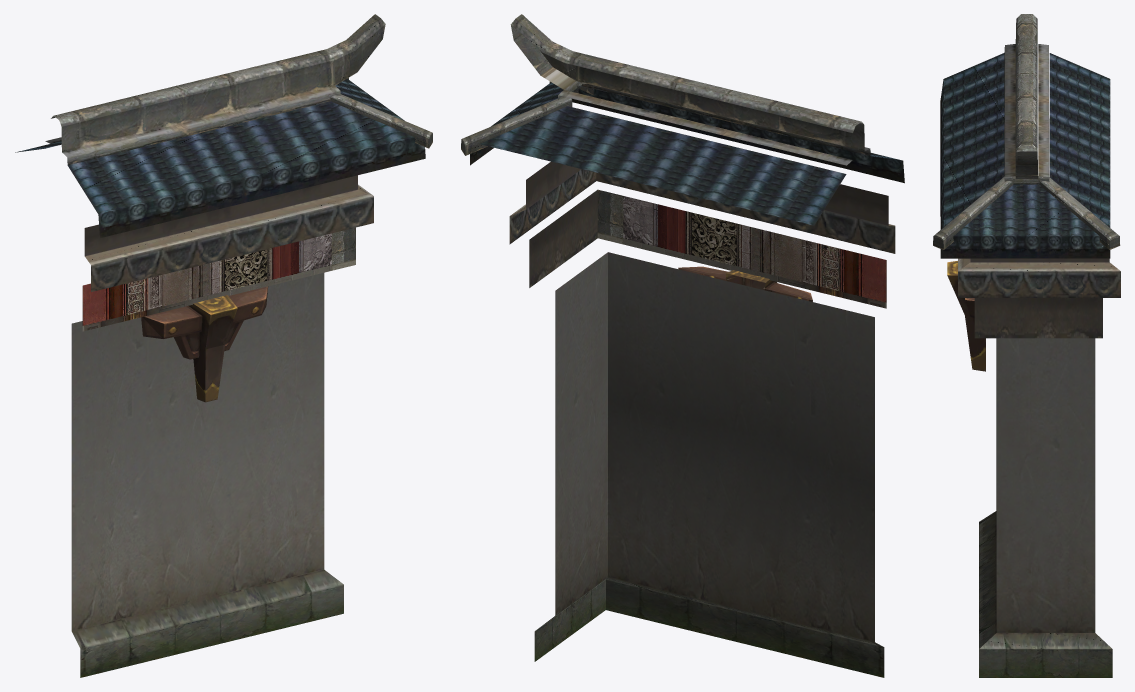
File: cj_luoyang_weiqiang03_56_06_1082out.fbx
3 views of the same model, side by side, from view 1: azimuth 30°, elevation 25°; view 2: azimuth 150°, elevation 25°; view 3: azimuth 270°, elevation 25° (orthographic). The views are drawn at different scales.
Parts seen in each view (by area): view 1: cj_luoyang_weiqiang03; view 2: cj_luoyang_weiqiang03; view 3: cj_luoyang_weiqiang03.
Boxes of the visible parts, left/top/right/bottom form: cj_luoyang_weiqiang03: left=15, top=14, right=432, bottom=677; cj_luoyang_weiqiang03: left=461, top=14, right=904, bottom=677; cj_luoyang_weiqiang03: left=933, top=14, right=1120, bottom=677.
Size of the model in its own units: 3.11 by 5.02 by 1.53.
